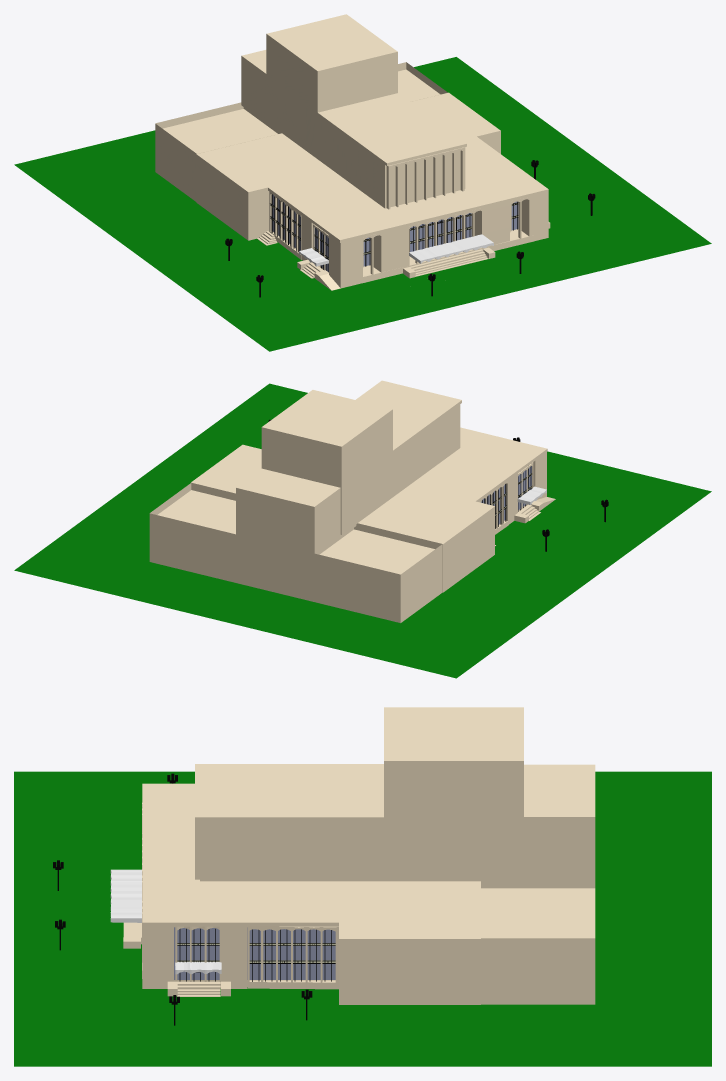
Rendered from TeatrodelCibao2.fbx.
The picture shows the model from 3 angles, top to bottom: view 1: azimuth 30°, elevation 25°; view 2: azimuth 150°, elevation 25°; view 3: azimuth 270°, elevation 25°; orthographic projection. The views are drawn at different scales.
Visible parts, largest first — view 1: Cube.001; view 2: Cube.001; view 3: Cube.001.
Part boxes in pixels (x1,y1,x2,y2): Cube.001: [14, 14, 711, 351]; Cube.001: [14, 380, 711, 678]; Cube.001: [14, 707, 711, 1066].
Bounding box in the file's own units: 4573 × 1377 × 4573.
